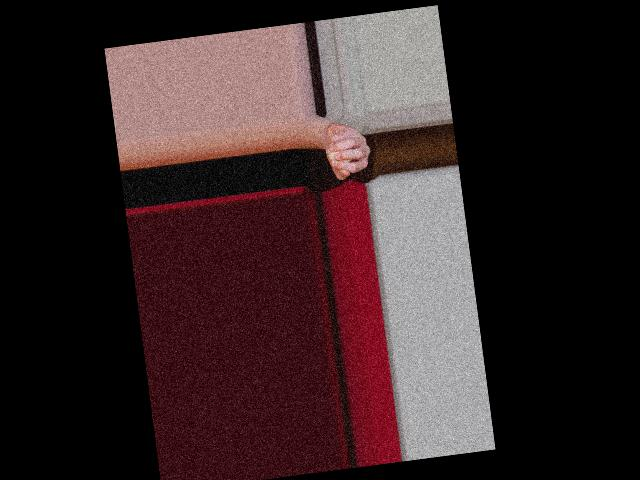egg: (326, 140, 353, 167)
